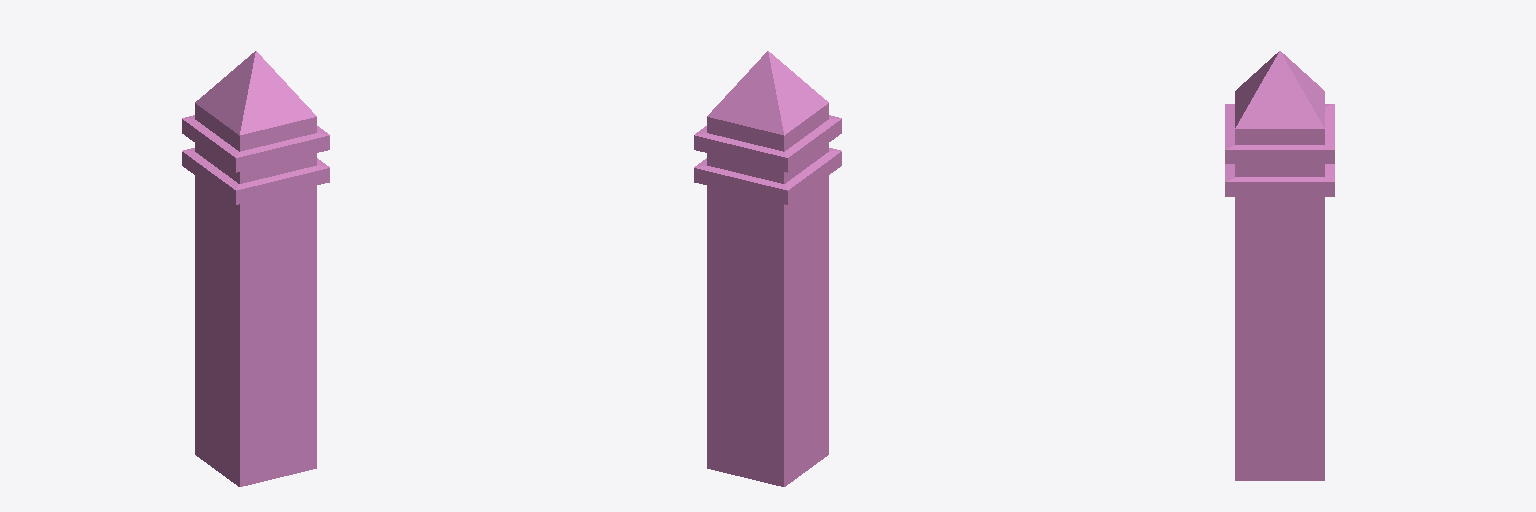
The model's file is pillar1.obj.
3 views of the same model, side by side, from view 1: azimuth 30°, elevation 25°; view 2: azimuth 150°, elevation 25°; view 3: azimuth 270°, elevation 25° (orthographic).
Visible parts, largest first — view 1: Box001; view 2: Box001; view 3: Box001.
Part boxes in pixels (x1,y1,x2,y2): Box001: (182, 51, 329, 486); Box001: (694, 51, 841, 486); Box001: (1225, 51, 1334, 480).
Bounding box in the file's own units: 23.95 × 99.68 × 23.95.